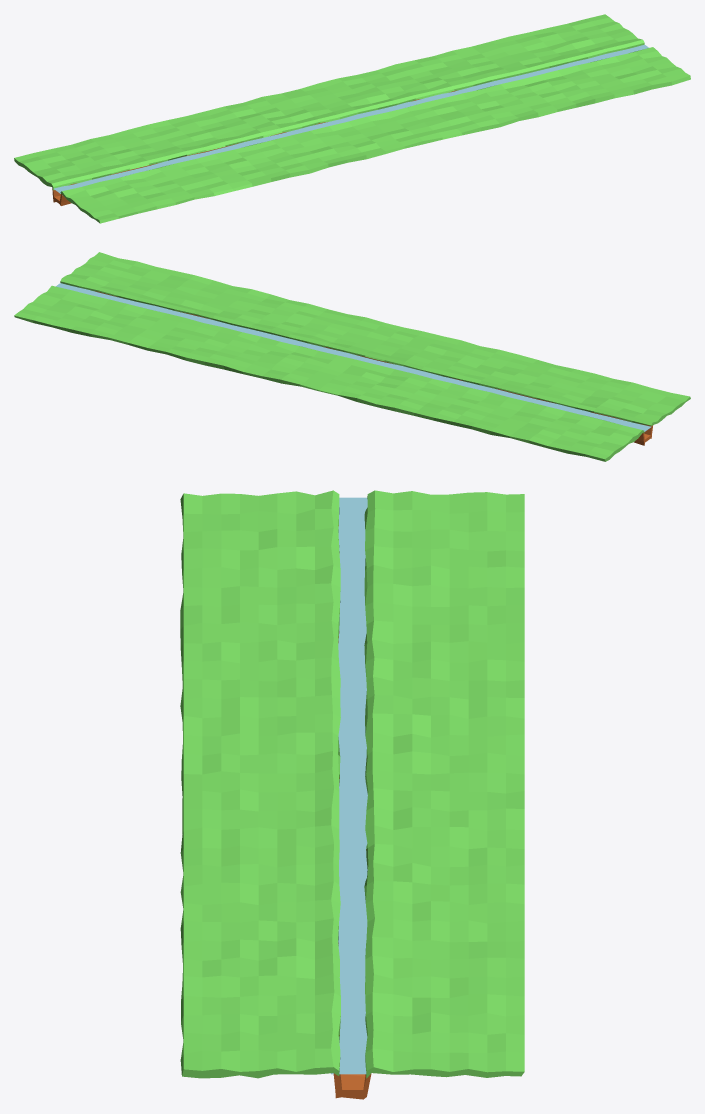
The model's file is terreno.fbx.
The picture shows the model from 3 angles, top to bottom: view 1: azimuth 30°, elevation 25°; view 2: azimuth 150°, elevation 25°; view 3: azimuth 270°, elevation 25°; orthographic projection. The views are drawn at different scales.
Visible parts, largest first — view 1: Aguinha; view 2: Aguinha; view 3: Aguinha.
Boxes of the visible parts, <box> form: Aguinha: <box>14,14,690,223</box>; Aguinha: <box>14,252,690,461</box>; Aguinha: <box>180,490,524,1099</box>.
Bounding box in the file's own units: 20000 × 565 × 5051.
